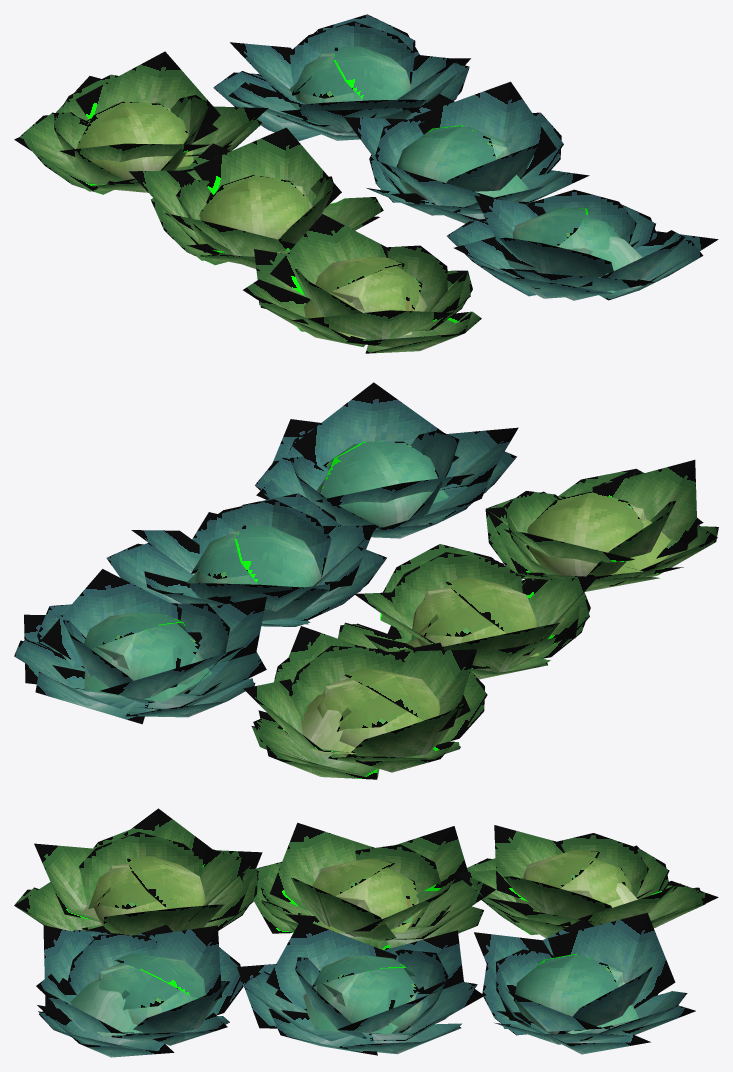
The model's file is objects_un_t01house01_plant07.gltf.
3 views of the same model, one above another, from view 1: azimuth 30°, elevation 25°; view 2: azimuth 150°, elevation 25°; view 3: azimuth 270°, elevation 25° (orthographic). The views are drawn at different scales.
Visible parts, largest first — view 1: um_objects_un_t01house01_plant07_model_lod2Shape:plants_un_c (×2), um_objects_un_t01house01_plant07_model_lod0Shape:plants_un_c (×2), um_objects_un_t01house01_plant07_model_lod1Shape:plants_un_c (×2); view 2: um_objects_un_t01house01_plant07_model_lod2Shape:plants_un_c (×2), um_objects_un_t01house01_plant07_model_lod0Shape:plants_un_c (×2), um_objects_un_t01house01_plant07_model_lod1Shape:plants_un_c (×2); view 3: um_objects_un_t01house01_plant07_model_lod2Shape:plants_un_c (×2), um_objects_un_t01house01_plant07_model_lod0Shape:plants_un_c (×2), um_objects_un_t01house01_plant07_model_lod1Shape:plants_un_c (×2).
Part boxes in pixels (x1,y1,x2,y2): um_objects_un_t01house01_plant07_model_lod2Shape:plants_un_c (×2): (14,42,718,347); um_objects_un_t01house01_plant07_model_lod0Shape:plants_un_c (×2): (20,14,703,353); um_objects_un_t01house01_plant07_model_lod1Shape:plants_un_c (×2): (20,14,700,353); um_objects_un_t01house01_plant07_model_lod2Shape:plants_un_c (×2): (24,382,717,779); um_objects_un_t01house01_plant07_model_lod0Shape:plants_un_c (×2): (14,428,718,777); um_objects_un_t01house01_plant07_model_lod1Shape:plants_un_c (×2): (14,431,718,775); um_objects_un_t01house01_plant07_model_lod2Shape:plants_un_c (×2): (14,808,718,1057); um_objects_un_t01house01_plant07_model_lod0Shape:plants_un_c (×2): (15,830,704,1053); um_objects_un_t01house01_plant07_model_lod1Shape:plants_un_c (×2): (15,832,705,1053).
Size of the model in its own units: 1.9 by 0.3364 by 2.7.
2 materials, 2 textured.
